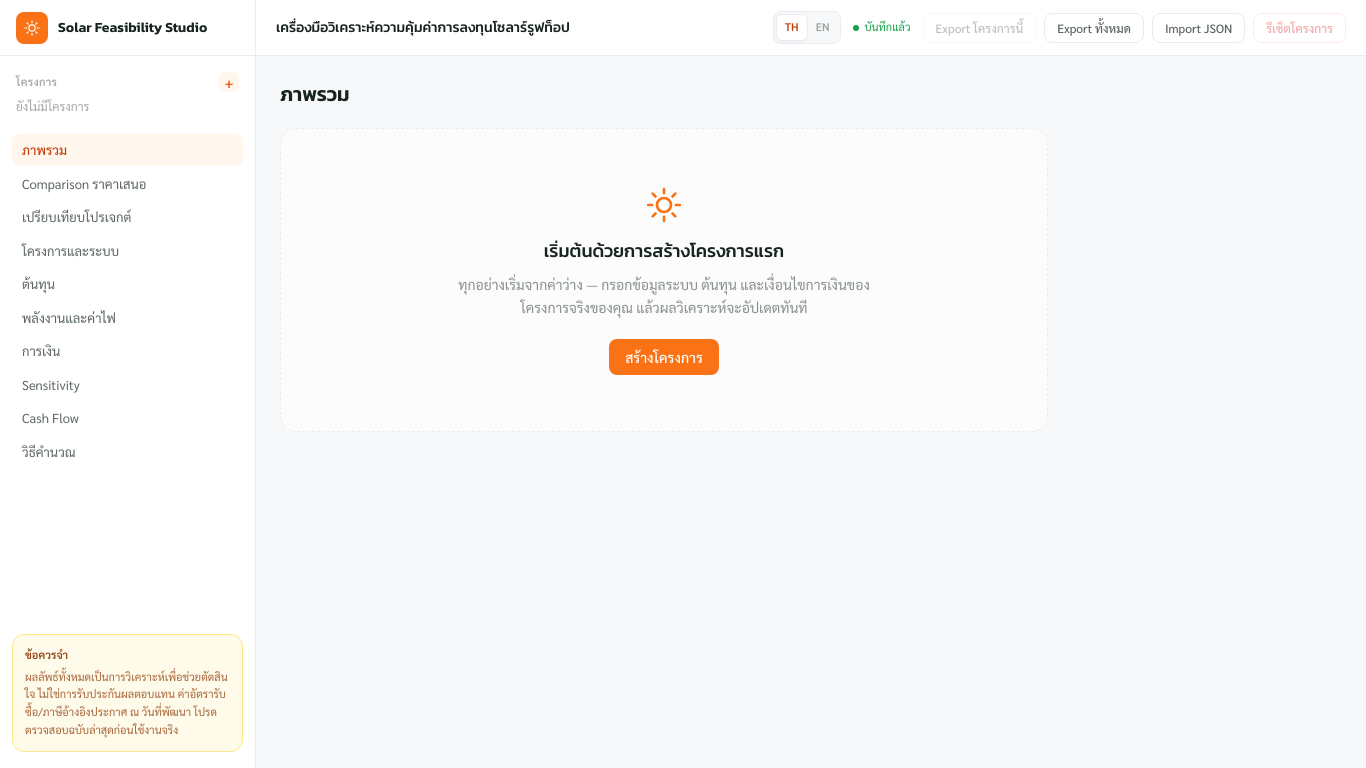
Scenario: costs page (Phase 4) › saves a CAPEX line to the shared price list (badge count)
The image size is (1366, 768).
Click the button "สร้างโครงการ": (664, 356) 609,338 -> 719,374
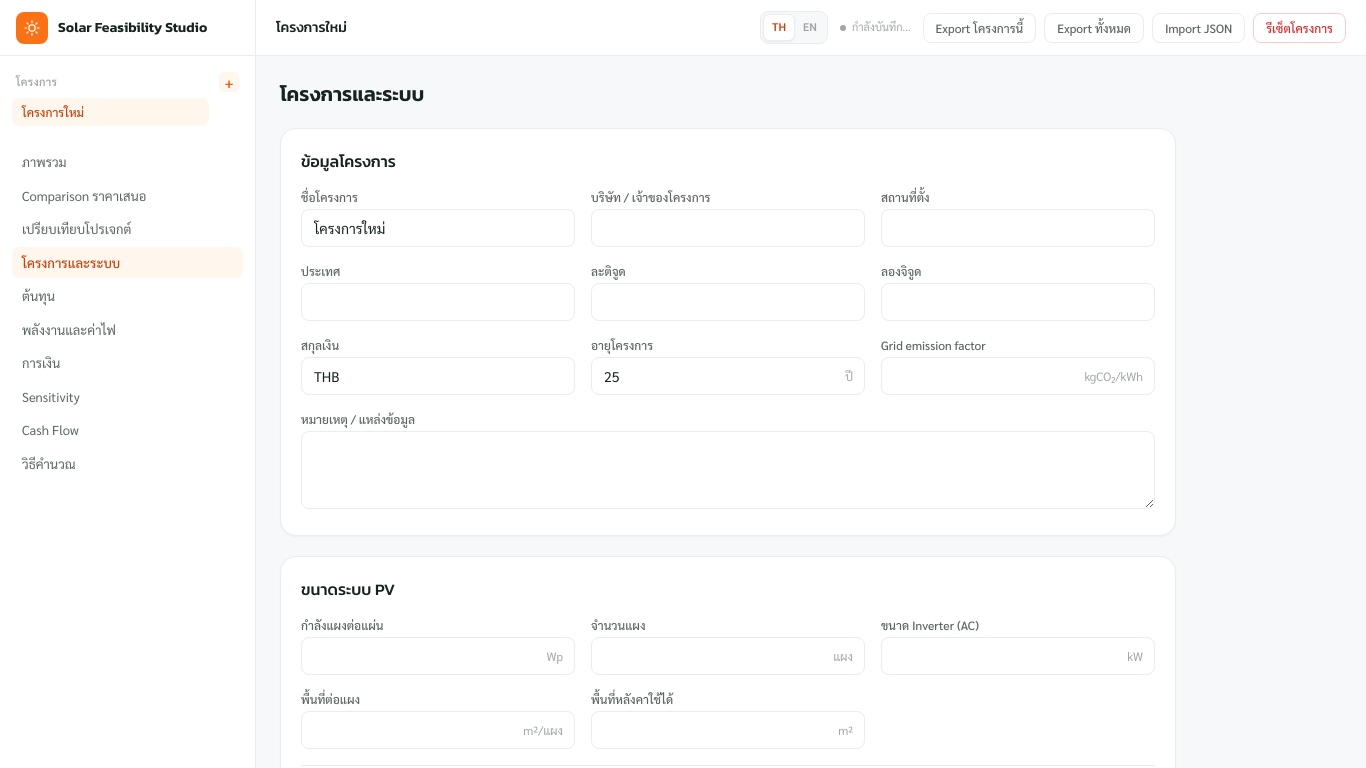
Click the link "ต้นทุน": (38, 296) 22,287 -> 55,304
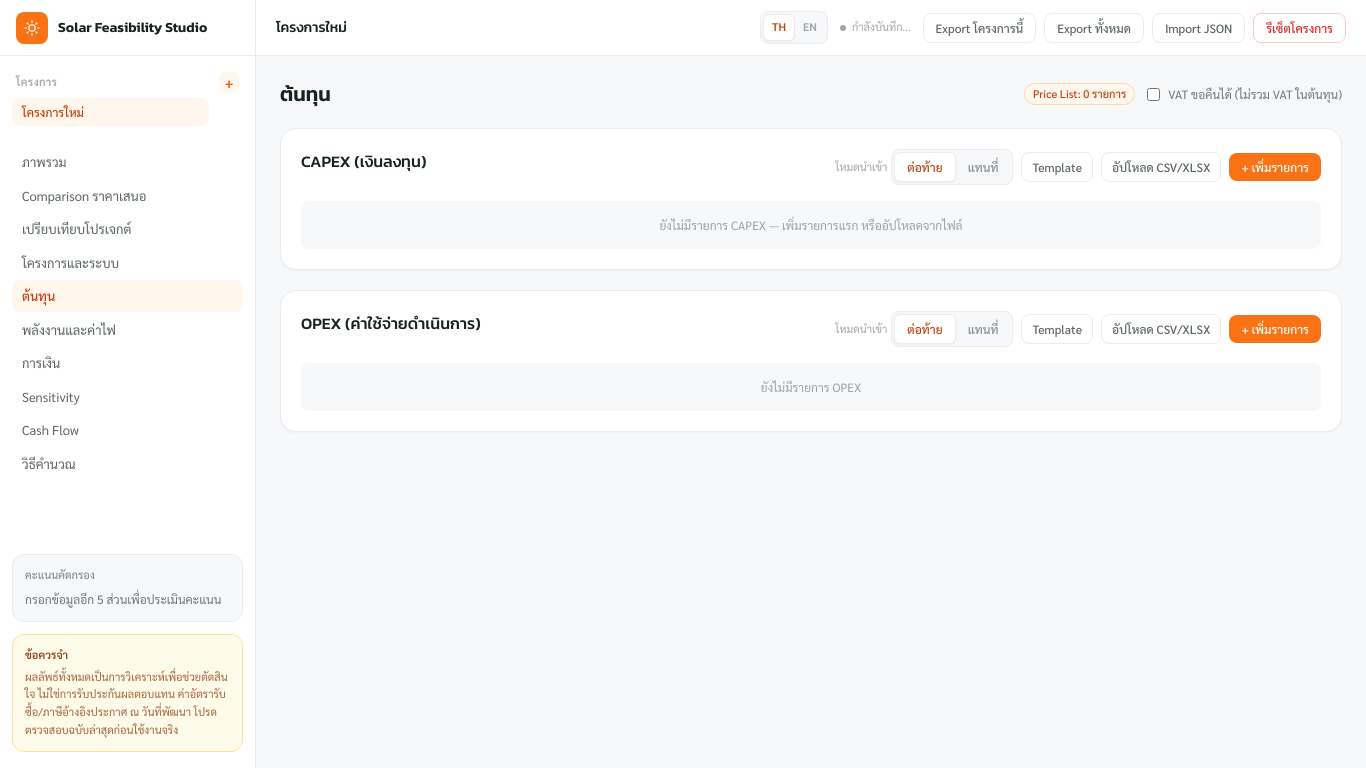
Check: the text "Price List: 0 รายการ" is shown, box 1024,83 -> 1135,105
Click the button "+ เพิ่มรายการ" in the row of "CAPEX (เงินลงทุน)": (1275, 167) 1229,153 -> 1321,181
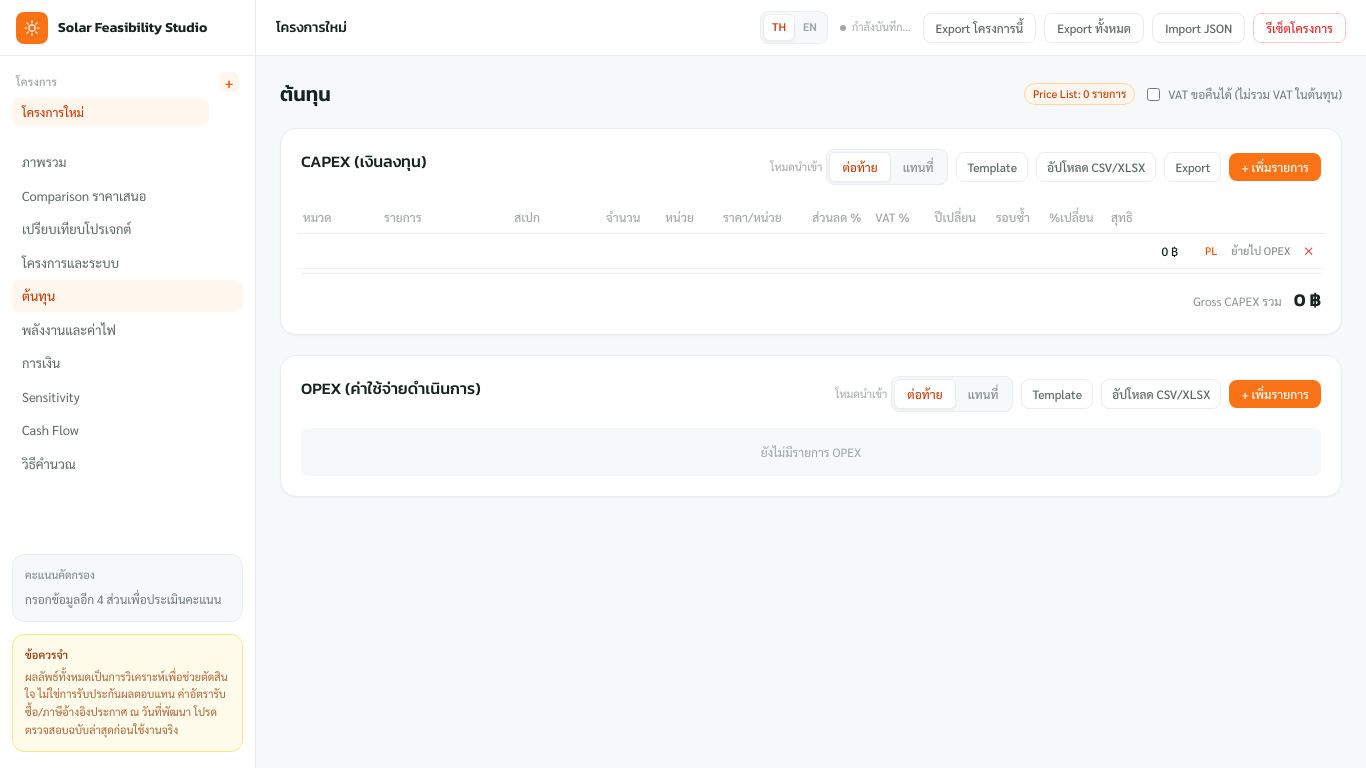
Click the button "PL": (1211, 251) 1199,241 -> 1223,261
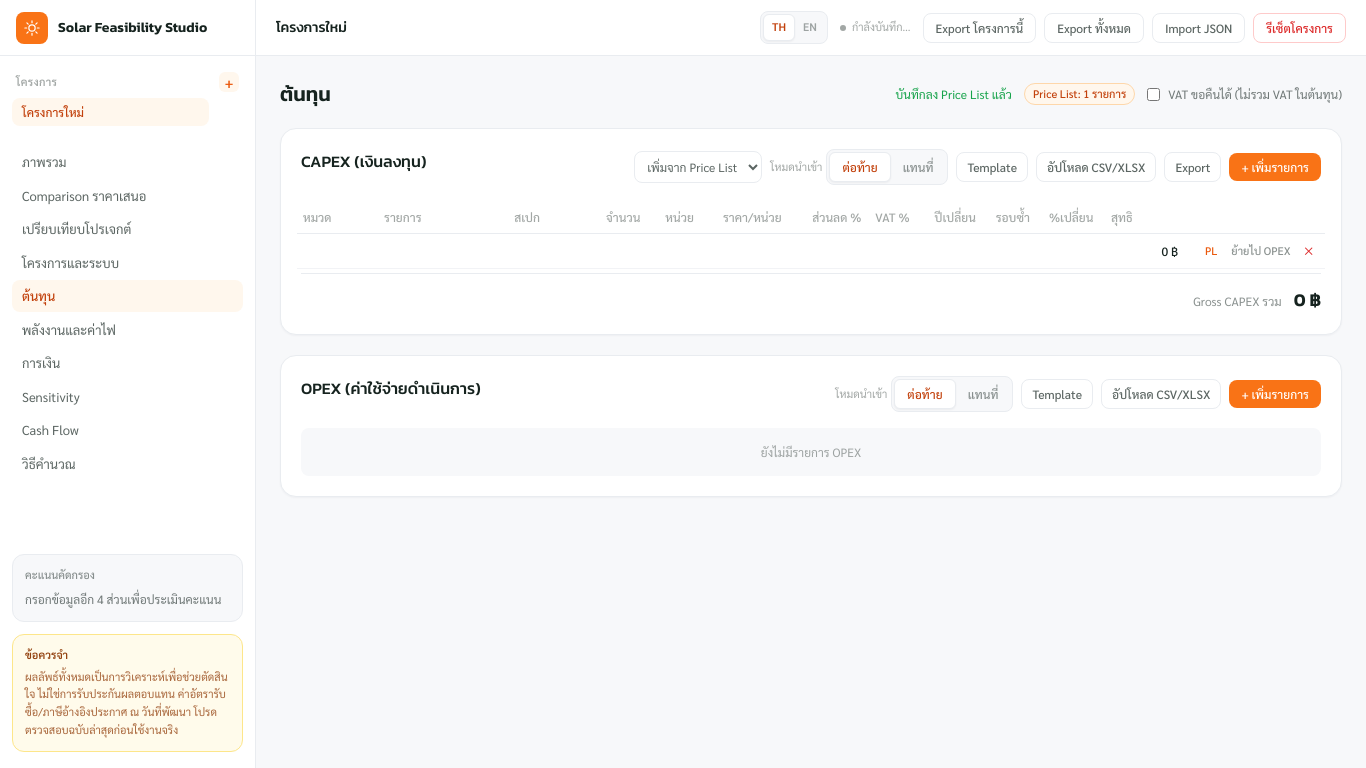
Check: the text "Price List: 1 รายการ" is shown, box 1024,83 -> 1135,105
